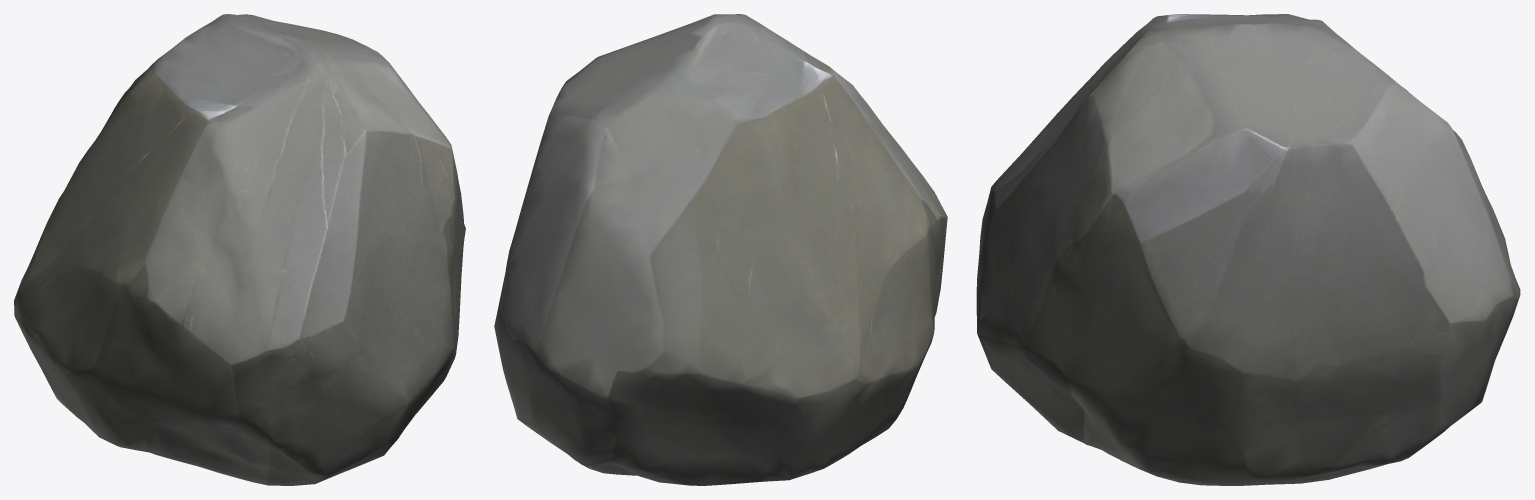
File: Monolith_Shadow_0405084403_texture.fbx
3 renders of one model, left to right at view 1: azimuth 30°, elevation 25°; view 2: azimuth 150°, elevation 25°; view 3: azimuth 270°, elevation 25°, orthographic. The views are drawn at different scales.
Visible parts, largest first — view 1: Mesh1; view 2: Mesh1; view 3: Mesh1.
Boxes of the visible parts, box(x1,y1,x2,y2) form: Mesh1: box(14, 14, 465, 485); Mesh1: box(494, 14, 947, 485); Mesh1: box(976, 14, 1520, 485).
Bounding box in the file's own units: 176 × 172 × 200.
Materials: 1 (1 with a texture image).
